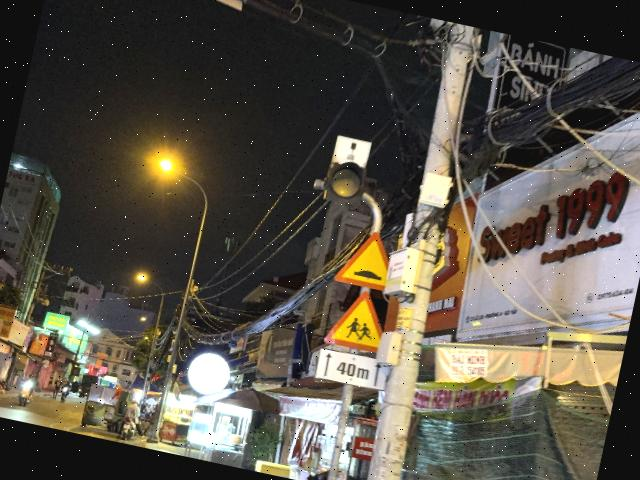duong-co-go-giam-toc: (332, 225, 394, 290)
tre-em-qua-duong: (322, 285, 390, 354)
